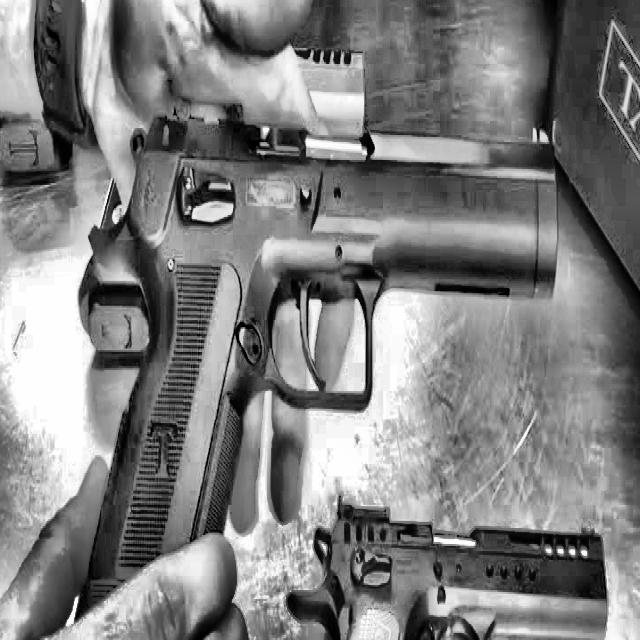Tanfoglio: (71, 76, 560, 640), (279, 487, 615, 640)
